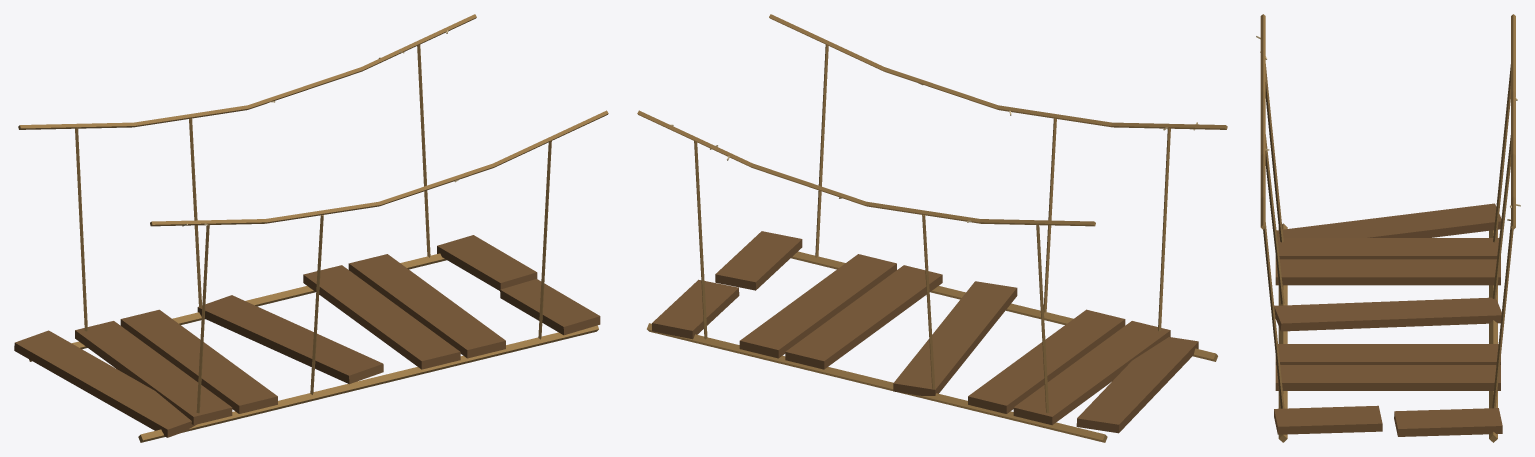
File: Prop_YTM_RopeBridge_Seg_S1_LOD1.glb
3 views of the same model, side by side, from view 1: azimuth 30°, elevation 25°; view 2: azimuth 150°, elevation 25°; view 3: azimuth 270°, elevation 25° (orthographic). The views are drawn at different scales.
Visible parts, largest first — view 1: Prop_YTM_RopeBridge_Seg_S1; view 2: Prop_YTM_RopeBridge_Seg_S1; view 3: Prop_YTM_RopeBridge_Seg_S1.
Part boxes in pixels (box(x1,y1,x2,y2)): Prop_YTM_RopeBridge_Seg_S1: box(14, 14, 608, 442); Prop_YTM_RopeBridge_Seg_S1: box(637, 14, 1227, 442); Prop_YTM_RopeBridge_Seg_S1: box(1256, 14, 1520, 442).
Bounding box in the file's own units: 2.07 × 0.9598 × 1.06.
